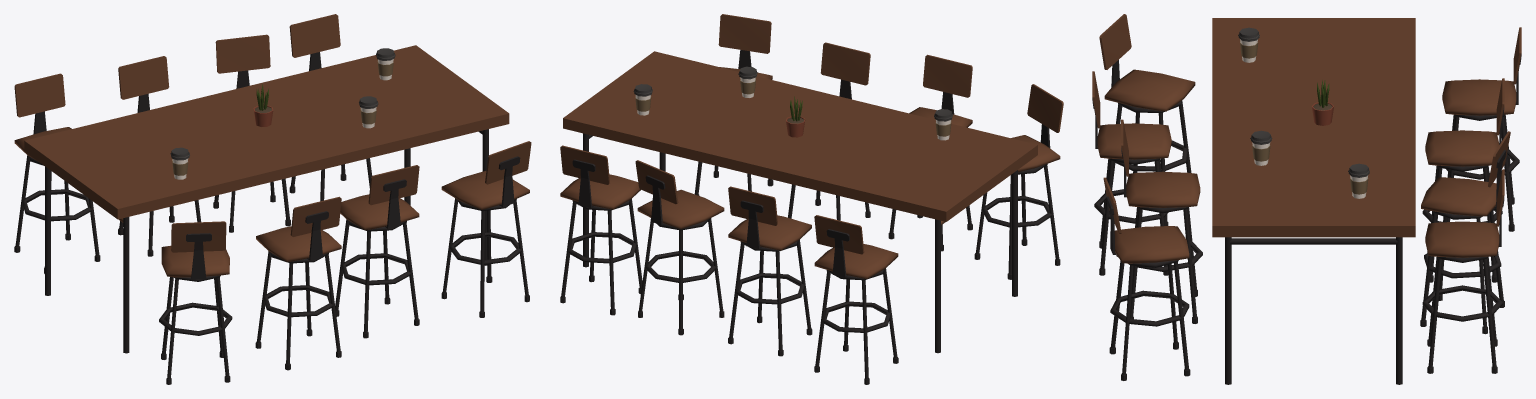
The model's file is Group_table_02.FBX.
The picture shows the model from 3 angles, left to right: view 1: azimuth 30°, elevation 25°; view 2: azimuth 150°, elevation 25°; view 3: azimuth 270°, elevation 25°; orthographic projection. The views are drawn at different scales.
Visible parts, largest first — view 1: table_01, chair_02, chair_04, chair_03, chair_01, chair_05, chair_07, chair_06, chair_08, flower_01, takeout coffee_03, takeout coffee_02 (+1 smaller); view 2: table_01, chair_06, chair_05, chair_08, chair_07, chair_01, chair_02, chair_04, chair_03, flower_01, takeout coffee_01, takeout coffee_03 (+1 smaller); view 3: table_01, chair_04, chair_08, chair_01, chair_07, chair_03, chair_02, chair_05, chair_06, flower_01, takeout coffee_01, takeout coffee_03 (+1 smaller).
Part boxes in pixels (x1,y1,x2,y2): table_01: (24,45,509,353); chair_02: (255,196,341,370); chair_04: (441,141,531,317); chair_03: (335,165,419,338); chair_01: (159,221,232,384); chair_05: (14,73,100,273); chair_07: (213,34,290,232); chair_06: (118,56,201,256); chair_08: (289,14,372,201); flower_01: (253,84,273,126); takeout coffee_03: (376,48,395,80); takeout coffee_02: (359,96,378,128); table_01: (563,51,1037,353); chair_06: (728,186,812,356); chair_05: (814,215,898,384); chair_08: (560,145,642,315); chair_07: (635,160,724,335); chair_01: (974,84,1063,279); chair_02: (888,54,972,251); chair_04: (694,14,773,195); chair_03: (788,42,870,220); flower_01: (786,96,805,137); takeout coffee_01: (934,109,953,140); takeout coffee_03: (633,84,652,115); table_01: (1212,18,1415,384); chair_04: (1103,177,1190,380); chair_08: (1422,169,1504,373); chair_01: (1099,14,1195,225); chair_07: (1420,131,1510,334); chair_03: (1121,119,1202,323); chair_02: (1092,71,1171,275); chair_05: (1442,27,1521,231); chair_06: (1422,78,1504,282); flower_01: (1311,80,1333,125); takeout coffee_01: (1238,27,1259,62); takeout coffee_03: (1348,163,1369,198).
Size of the model in its own units: 264 by 124 by 230.
Materials: 1 (1 with a texture image).
